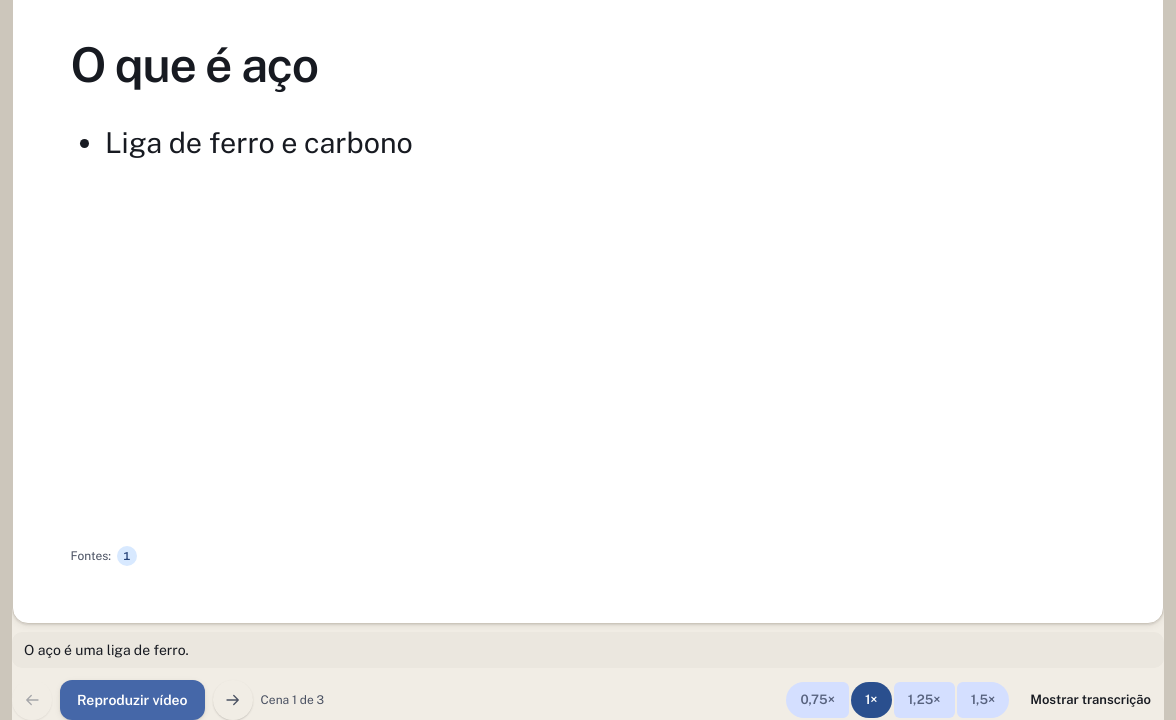
Test case: VideoView (D-98) › next and previous go by scene, and speak at once while playing
This screenshot has width=1176, height=720.
(page scrolled)
Click the button named "Próximo slide" at (233, 700), box [213,680,253,719]
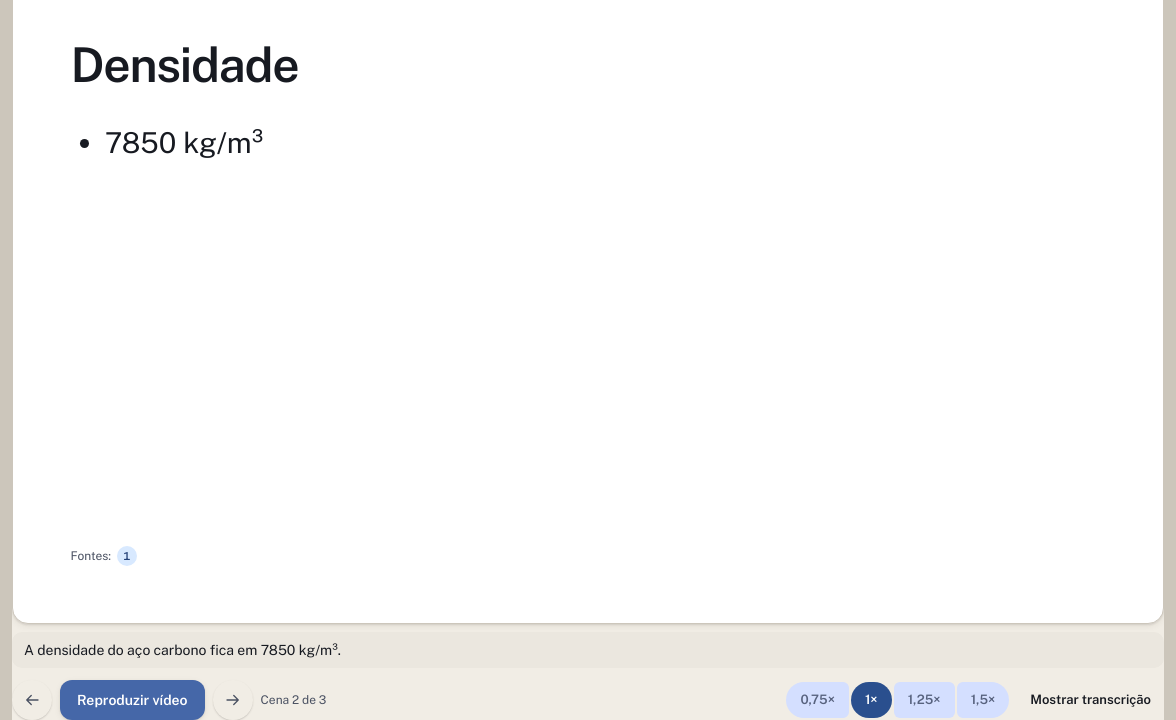
Expected: the heading reads "Densidade", [70,36,298,92]
Click the button "Reproduzir vídeo" at (132, 700), box [60,680,205,719]
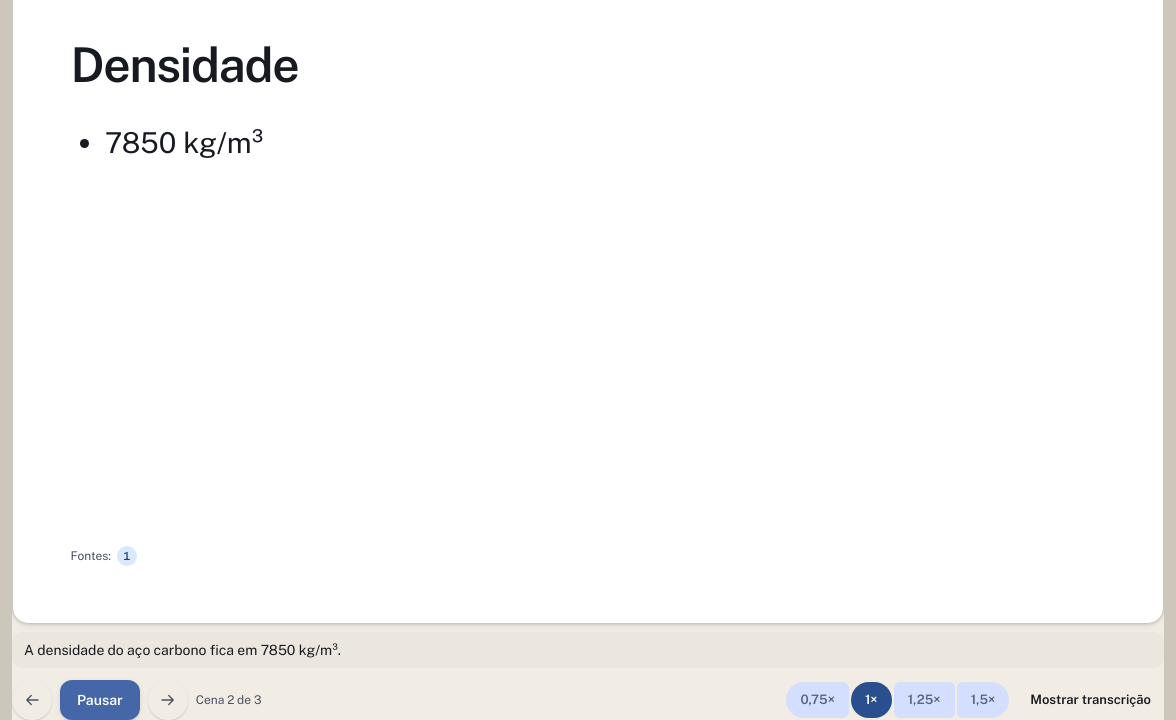
Click the button named "Próximo slide" at (168, 700), box [148,680,188,719]
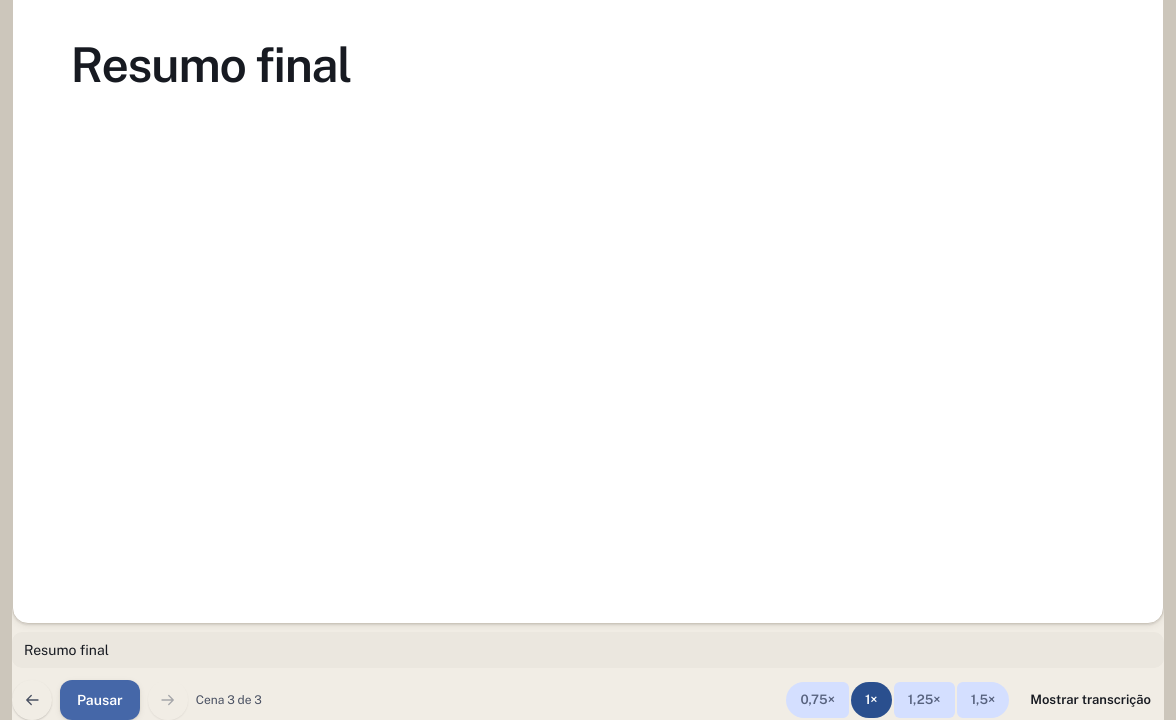
Expected: the heading reads "Resumo final", [70,36,351,92]
Expected: the button named "Próximo slide" is disabled, [148,680,188,719]
Click the button named "Slide anterior" at (32, 700), box [12,680,52,719]
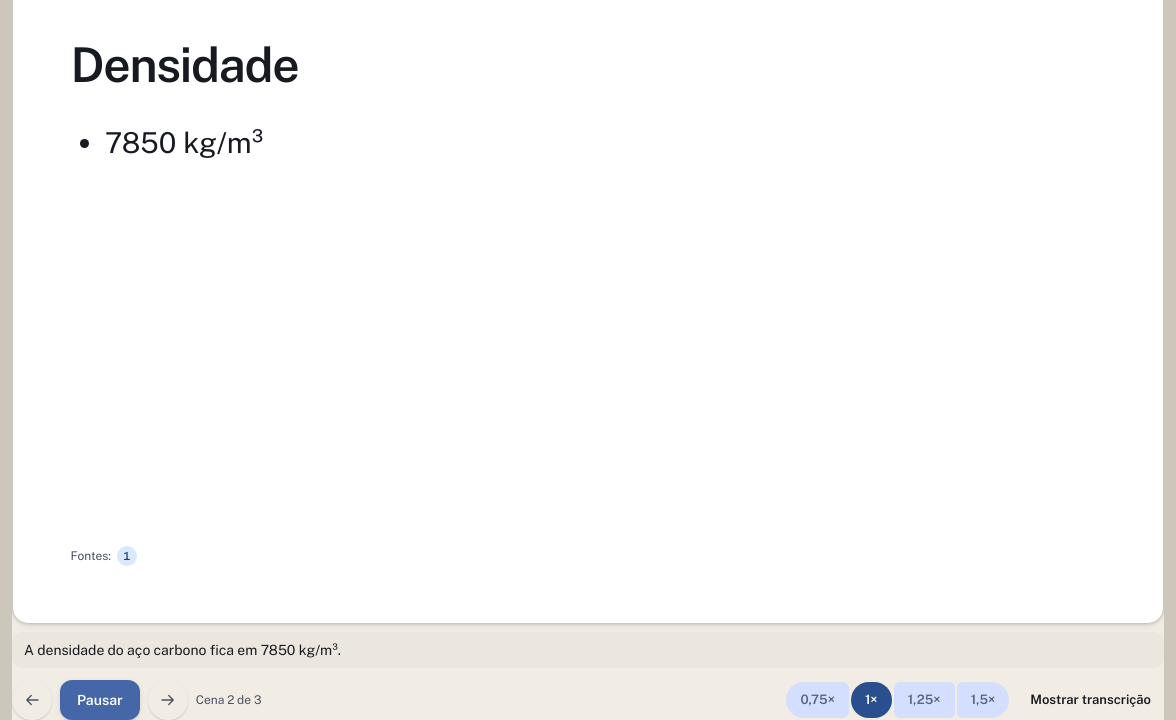
Click the button named "Slide anterior" at (32, 700), box [12,680,52,719]
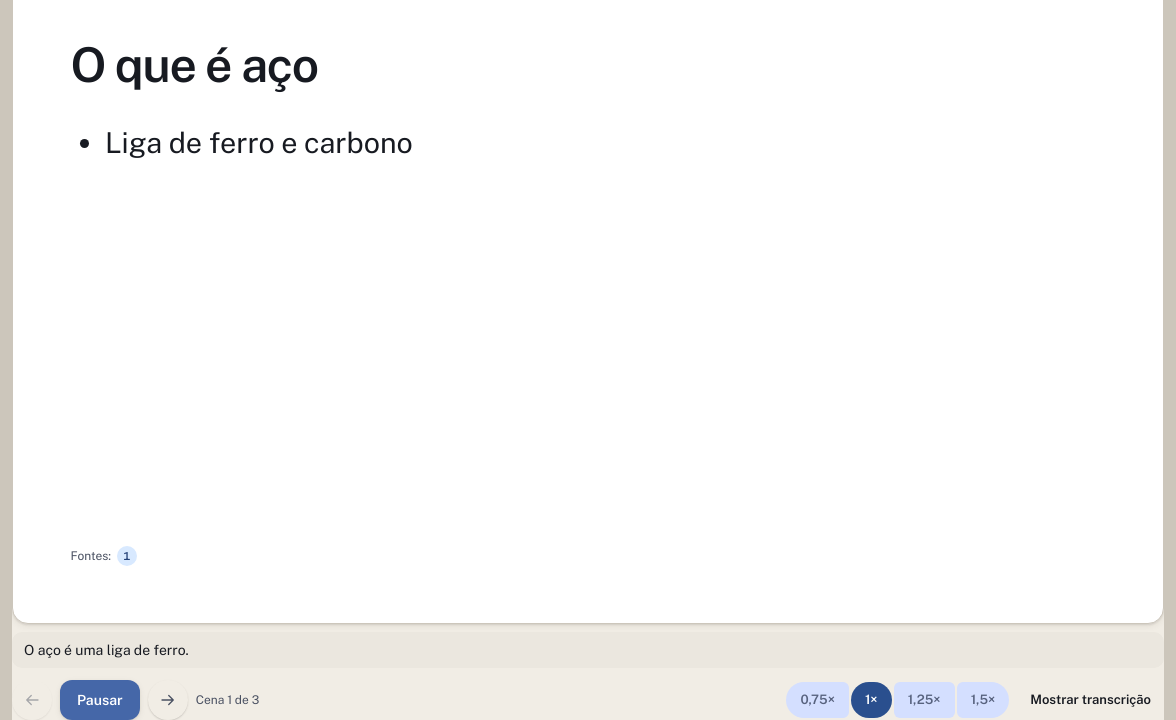
Expected: the heading reads "O que é aço", [70,36,318,92]
